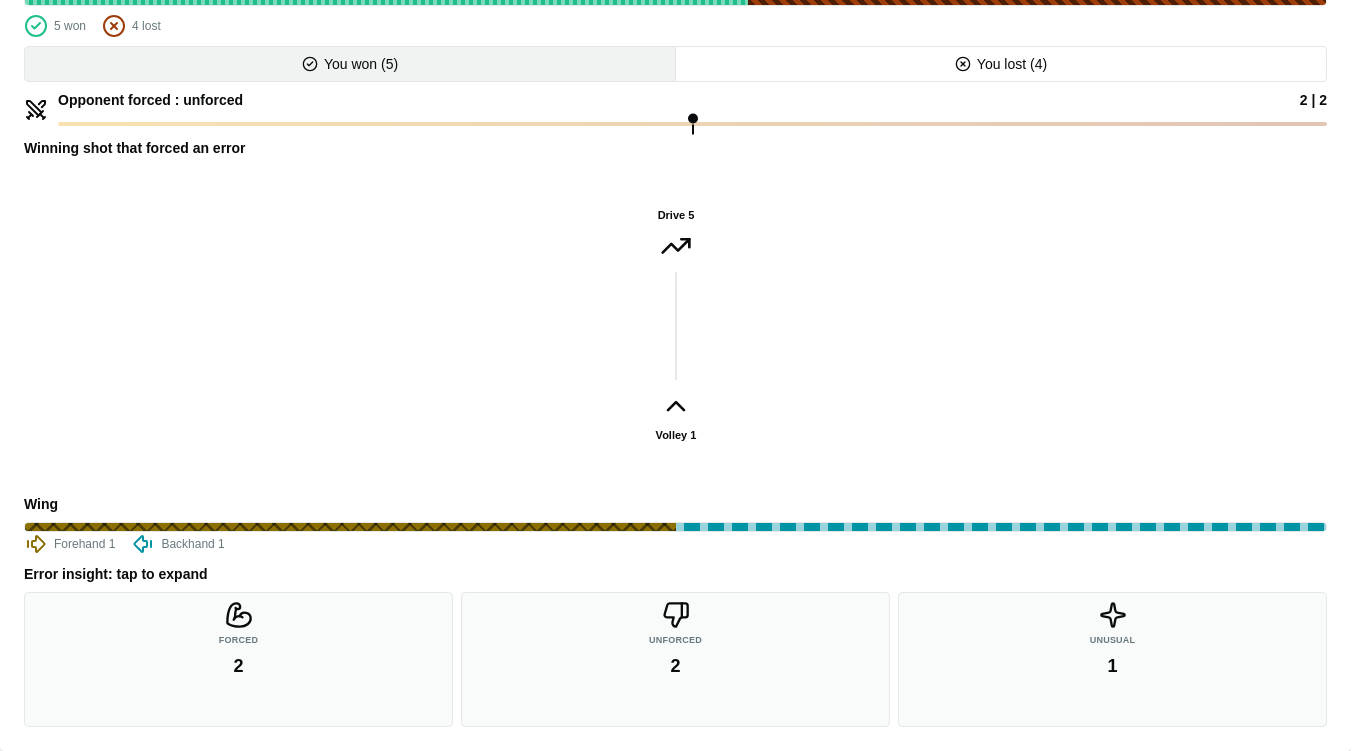
Scenario: tapping a different style card swaps the drill
(page scrolled)
Click the button "Forced 2" at (238, 659), box [24, 592, 453, 727]
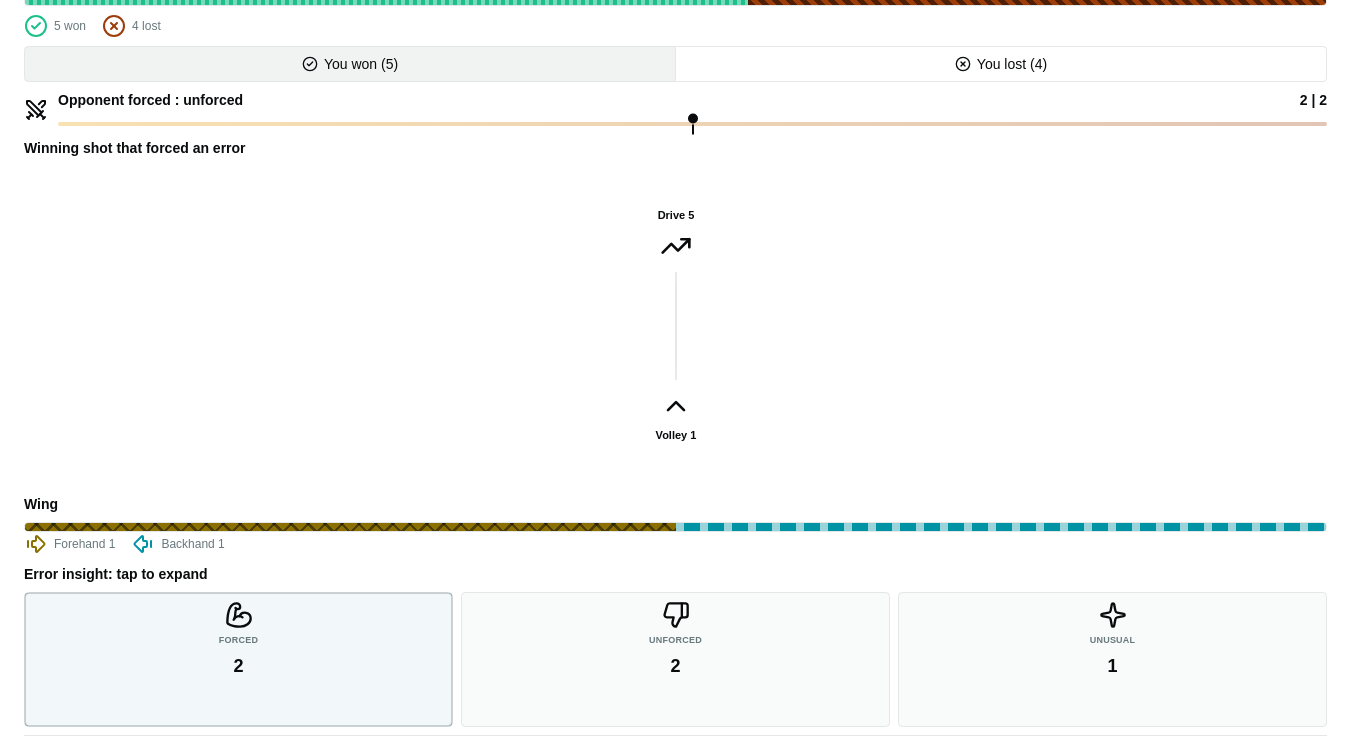
Click the button "Unusual 1" at (1112, 659), box [898, 592, 1327, 727]
(page scrolled)
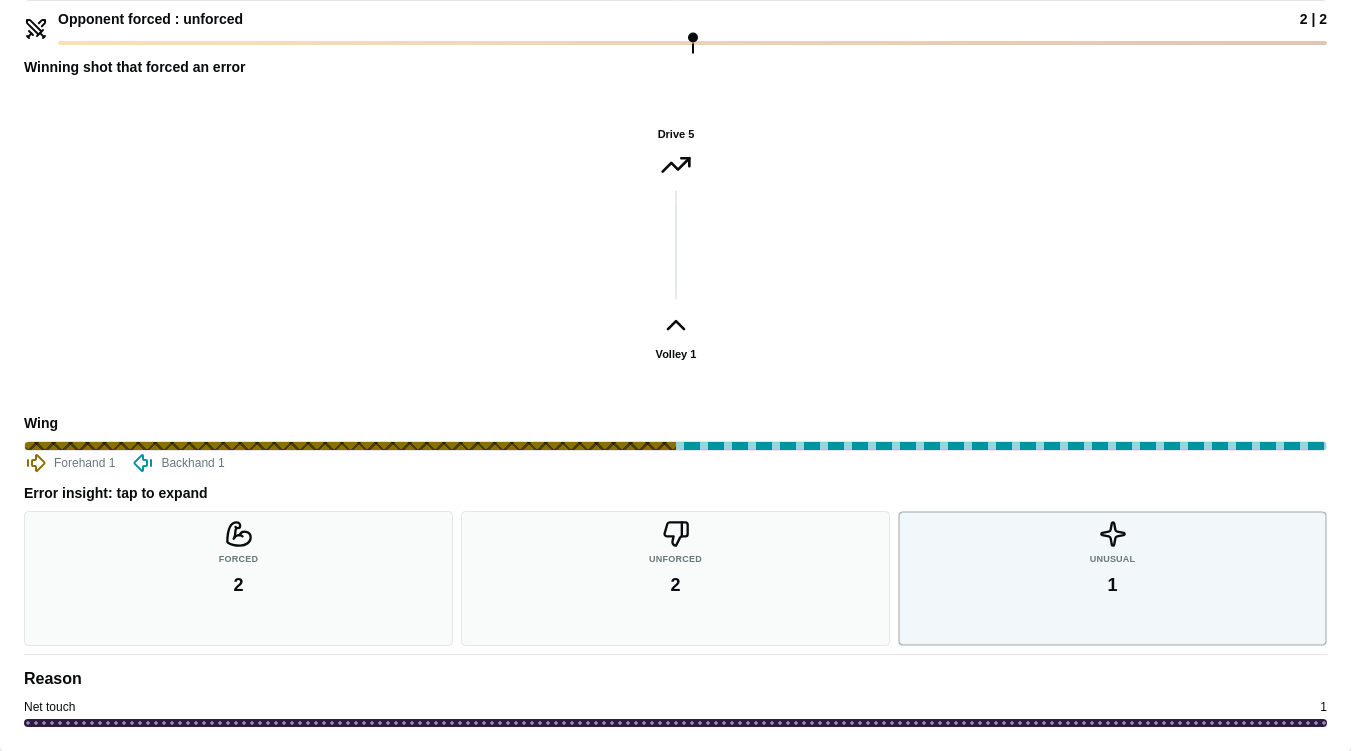
Expected: the text "Reason" is shown, [24, 670, 82, 687]
